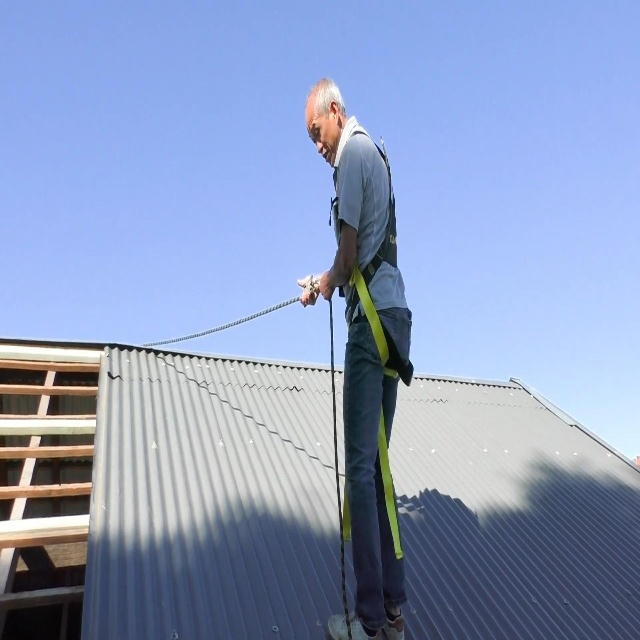Arnes_seguridad: (331, 113, 418, 407)
